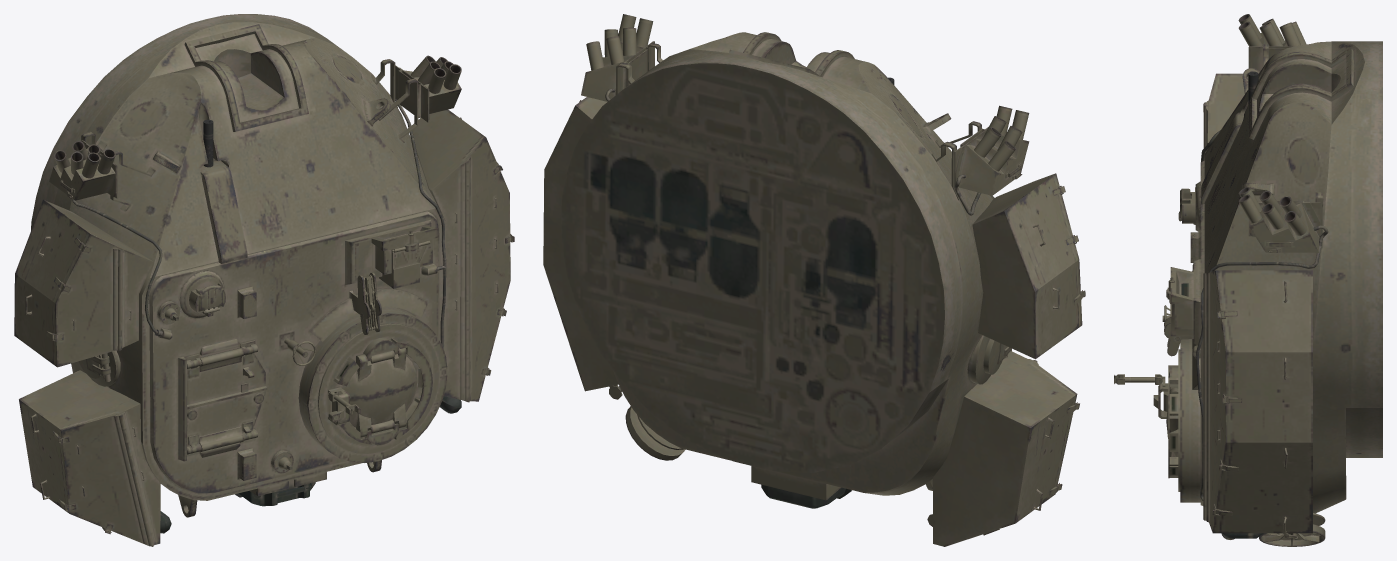
File: Turret_01.glb
The picture shows the model from 3 angles, left to right: view 1: azimuth 30°, elevation 25°; view 2: azimuth 150°, elevation 25°; view 3: azimuth 270°, elevation 25°; orthographic projection. The views are drawn at different scales.
Visible parts, largest first — view 1: set_0_group_0; view 2: set_0_group_0; view 3: set_0_group_0.
Part boxes in pixels (x1=…): set_0_group_0: x1=14, y1=14, x2=514, y2=546; set_0_group_0: x1=543, y1=14, x2=1085, y2=546; set_0_group_0: x1=1114, y1=14, x2=1382, y2=546.
Size of the model in its own units: 3.23 by 2.86 by 1.58.
1 material, 1 textured.
